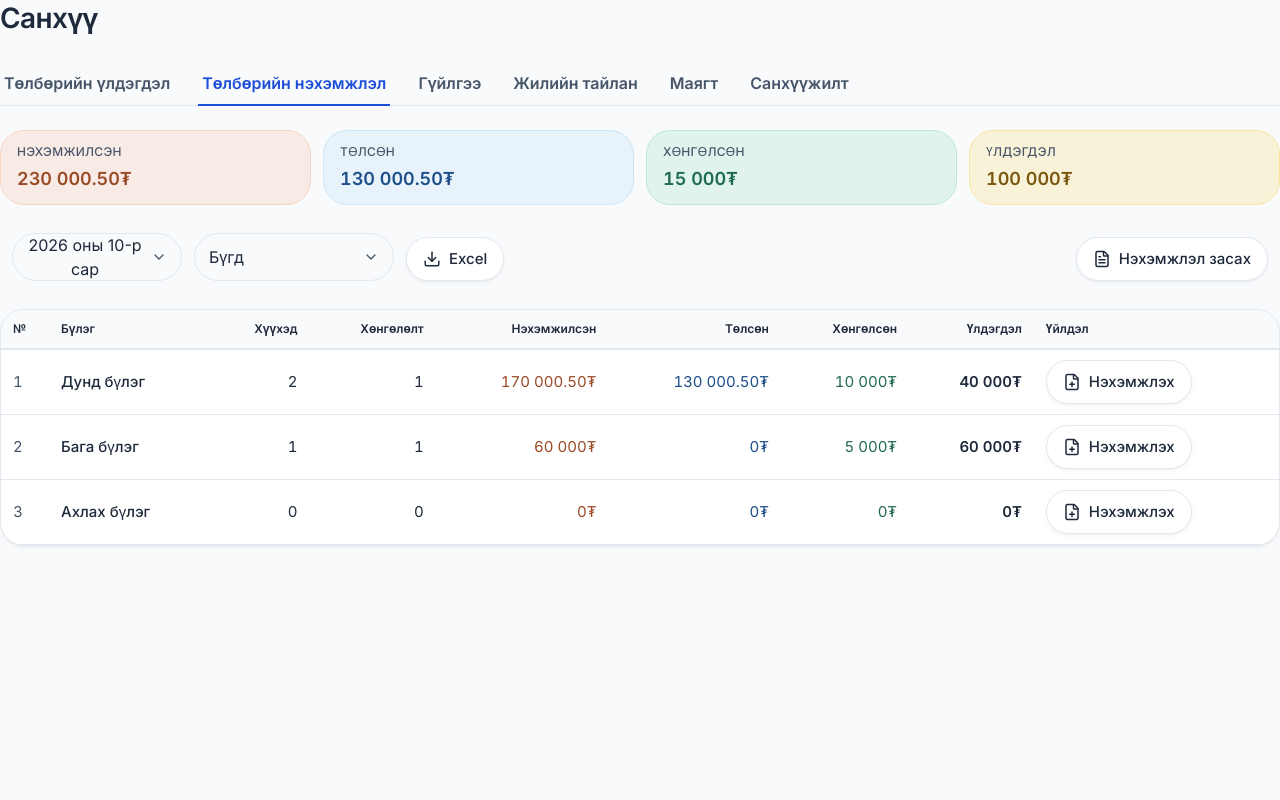
Test case: Санхүү — tabs › bills one group's children through «Нэхэмжлэх»
Click the button "Нэхэмжлэх" in the row of "Ахлах бүлэг".
click(1119, 512)  # box [1046,490,1192,534]
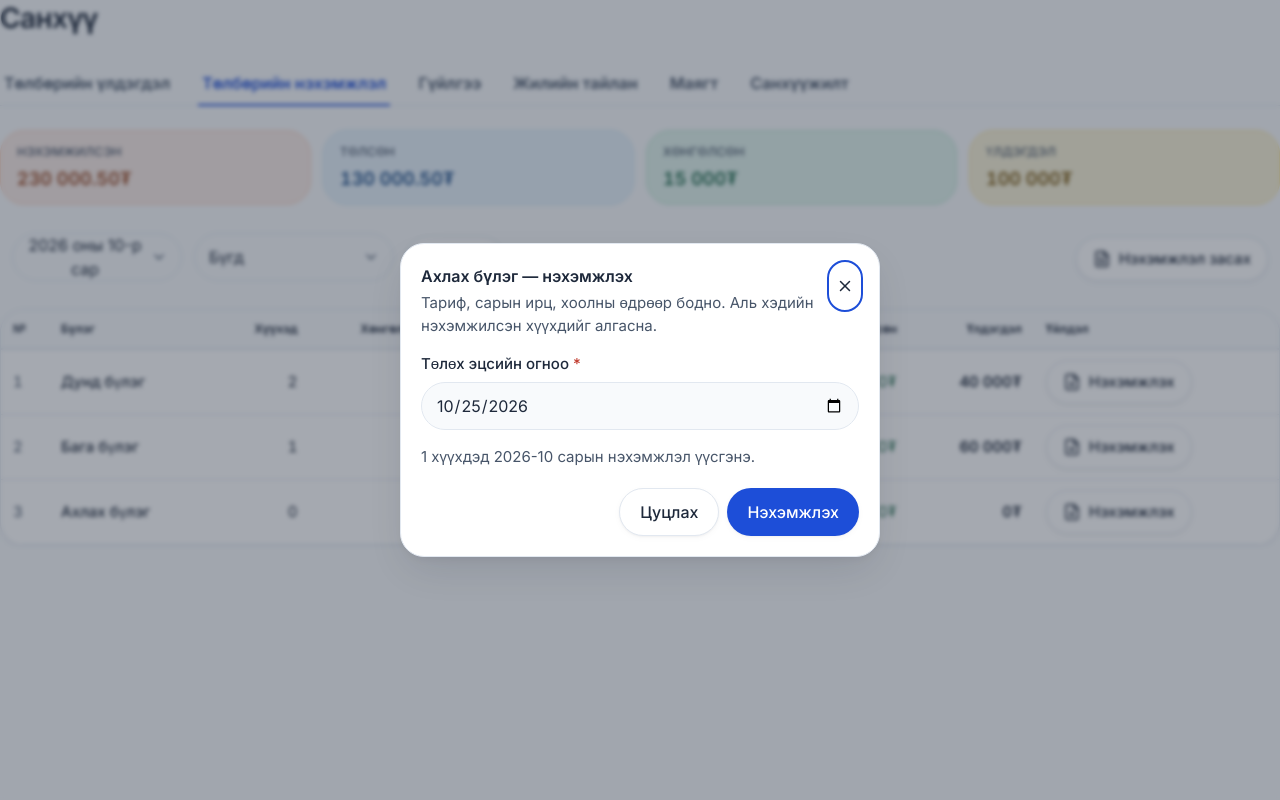
Now the text "1 хүүхдэд 2026-10 сарын нэхэмжлэл үүсгэнэ." is shown, box [421,446,755,466]
Click the button "Нэхэмжлэх".
click(793, 512)  # box [727,488,859,536]
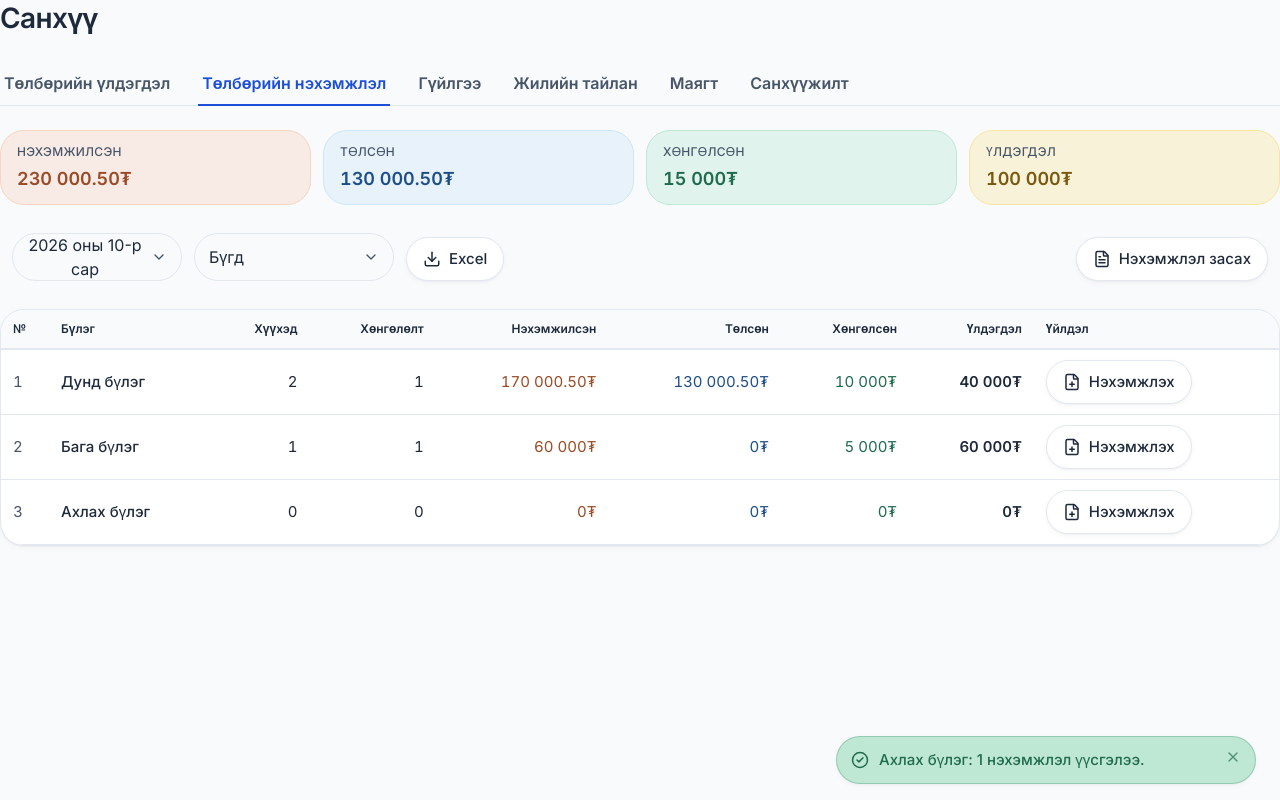
Now the text "Ахлах бүлэг: 1 нэхэмжлэл үүсгэлээ." is shown, box [879,750,1145,768]
